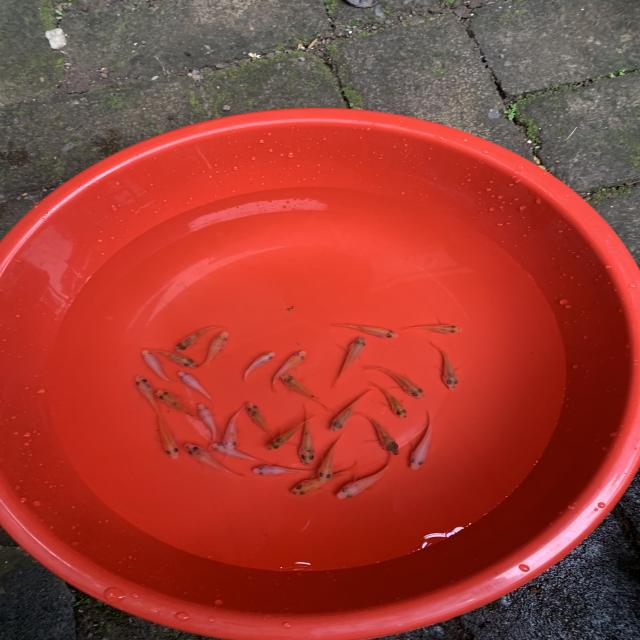nila: (363, 357, 428, 402), (334, 457, 396, 500), (289, 458, 363, 494), (274, 370, 335, 412), (367, 376, 420, 423), (178, 441, 244, 478), (266, 345, 316, 392), (328, 385, 375, 433), (266, 409, 316, 452), (331, 334, 370, 386), (238, 395, 286, 437), (362, 410, 402, 460), (427, 339, 462, 394), (147, 408, 181, 461), (196, 326, 234, 373), (407, 411, 435, 474), (188, 400, 223, 448), (172, 320, 224, 352), (130, 374, 166, 419), (322, 318, 403, 338), (155, 388, 202, 422), (204, 440, 267, 465), (142, 344, 202, 369), (176, 368, 218, 403), (222, 400, 252, 449), (238, 349, 280, 384), (320, 434, 348, 486), (136, 349, 176, 385), (296, 403, 318, 468), (394, 321, 473, 339), (248, 461, 314, 478)
